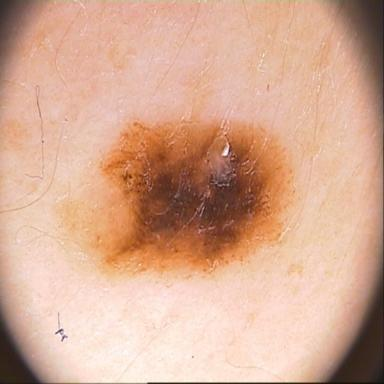nevus: (53, 119, 294, 274)
